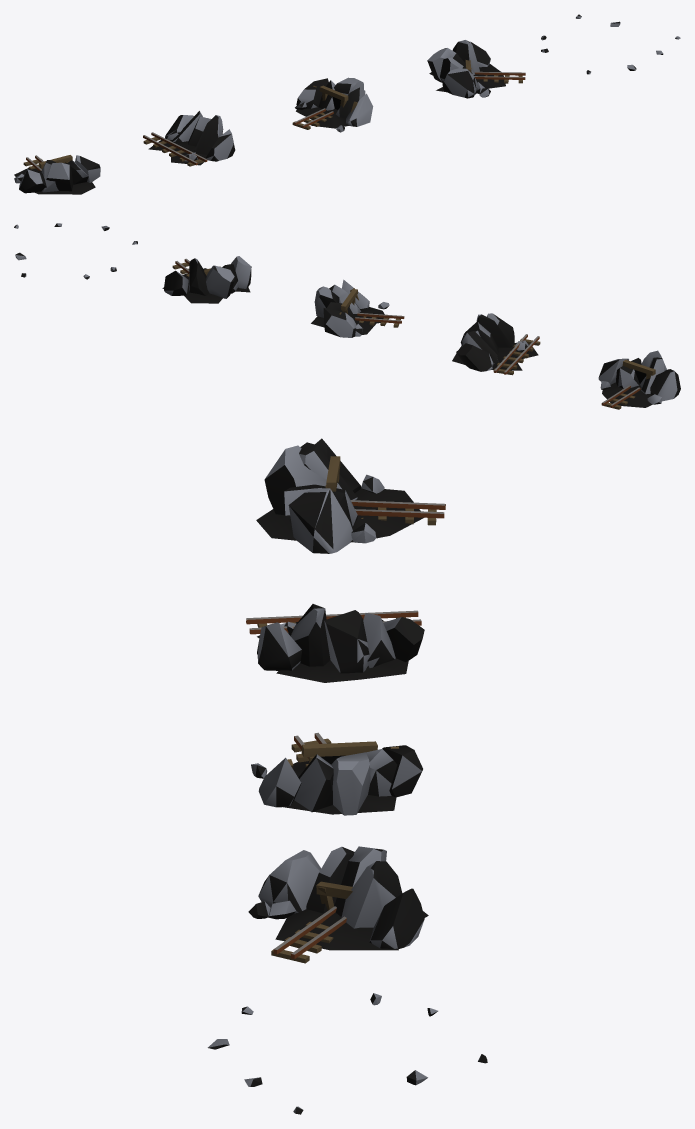
File: dep_coal.glb
3 views of the same model, one above another, from view 1: azimuth 30°, elevation 25°; view 2: azimuth 150°, elevation 25°; view 3: azimuth 270°, elevation 25° (orthographic). The views are drawn at different scales.
Parts seen in each view (by area): view 1: v2, v3, v1, v0; view 2: v0, v1, v2, v3; view 3: v3, v0, v1, v2.
Boxes of the visible parts, x1,y1,x2,y2 form: v2: [292, 77, 373, 132]; v3: [427, 40, 525, 98]; v1: [143, 111, 235, 166]; v0: [14, 155, 100, 194]; v0: [598, 350, 680, 409]; v1: [452, 313, 540, 375]; v2: [311, 279, 404, 337]; v3: [162, 256, 251, 303]; v3: [248, 846, 428, 963]; v0: [256, 438, 445, 553]; v1: [246, 604, 424, 682]; v2: [251, 732, 422, 815].
Size of the model in its own units: 10.77 by 0.5062 by 2.
